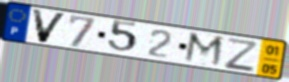2: (146, 29, 174, 60)
5: (106, 19, 140, 56)
7: (67, 13, 98, 50)
M: (182, 31, 227, 70)
V: (30, 8, 70, 45)
Z: (223, 36, 258, 72)
